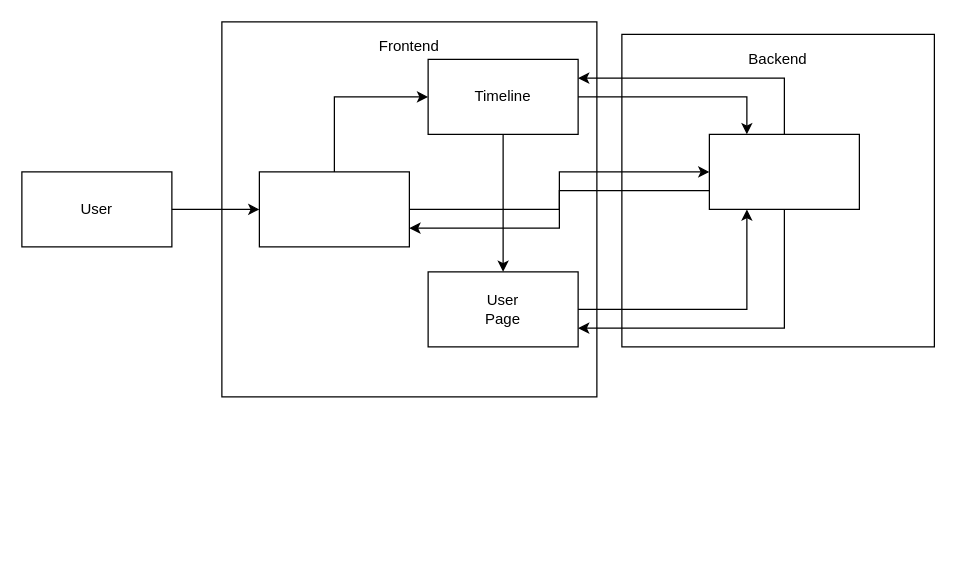
The diagram is 956 pixels wide and 569 high, and some of its shapes have lost their labels. Each missing label, with the centre of its shape:
"Database" belongs at point (783, 171).
"Register/ Login page" belongs at point (333, 209).
